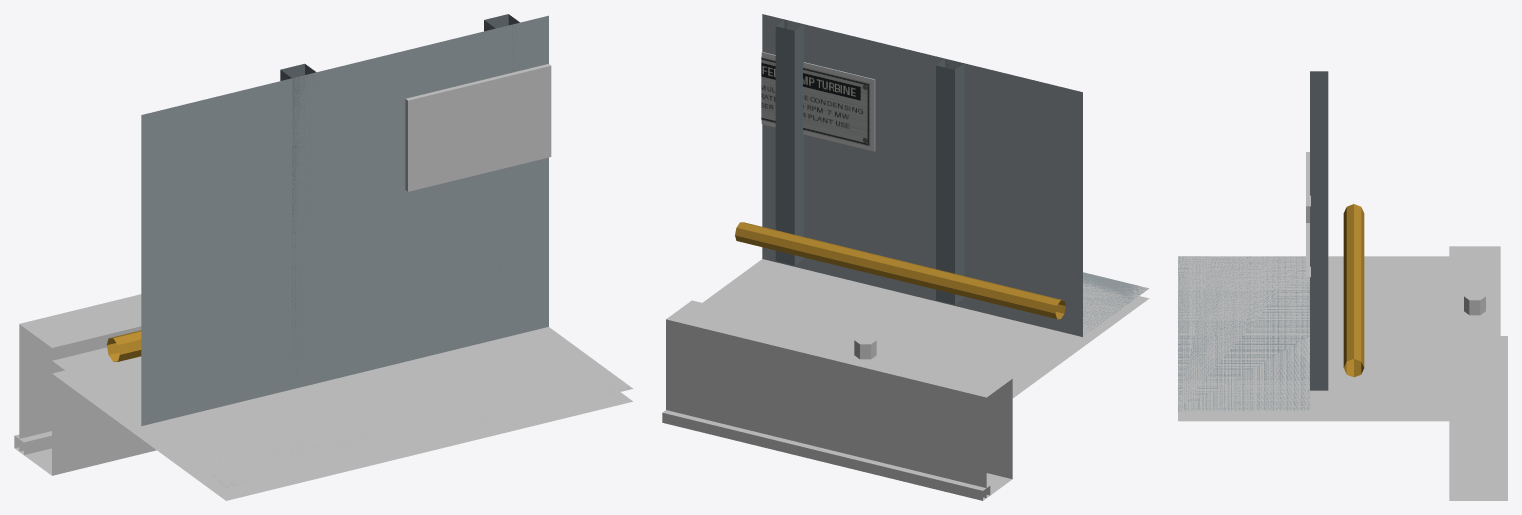
File: cell_6.obj
3 renders of one model, left to right at view 1: azimuth 30°, elevation 25°; view 2: azimuth 150°, elevation 25°; view 3: azimuth 270°, elevation 25°, orthographic. The views are drawn at different scales.
Bounding box in the file's own units: 1 × 1 × 0.9.
